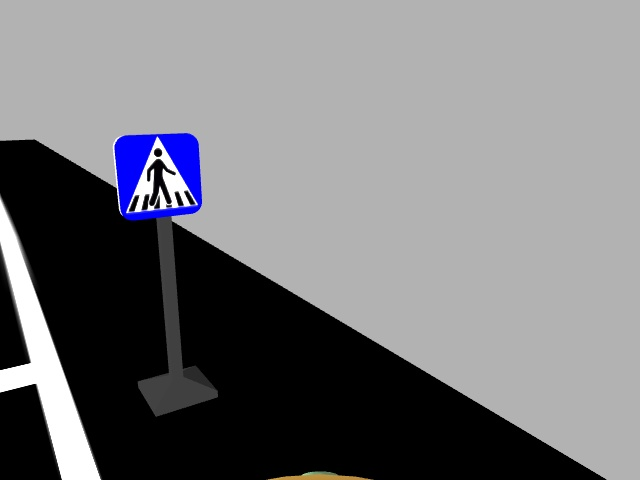Crosswalk: (109, 135, 203, 216)
